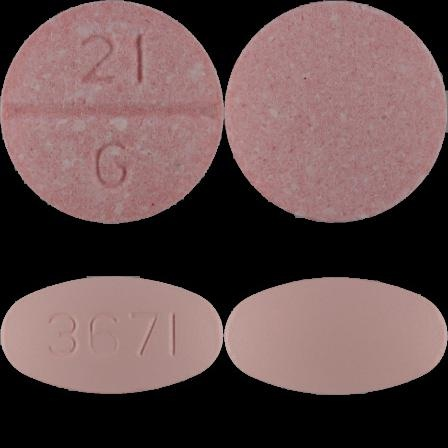63187-306: (0, 0, 224, 224)
